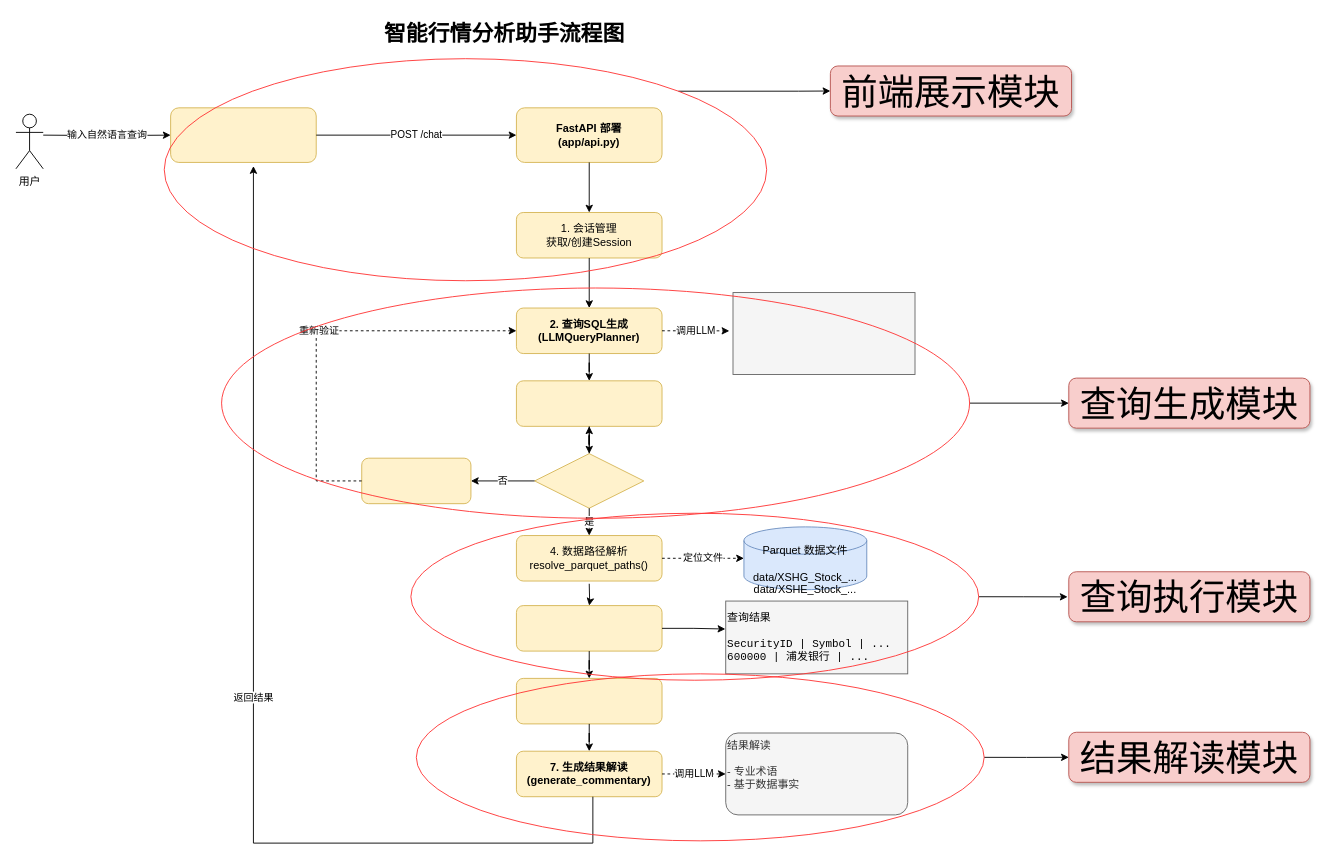
Some shapes in this 1331 by 866 pixel diagram are drawn without their labels. The shapes that lost their labels are listed below. From the top down, each one's centre as x and y in pixels, then its label:
At [243,134]: "Streamlit UI (app/ui_streamlit.py)".
At [823,333]: "DuckDB SQL SELECT ... FROM parquet_scan(...) WHERE ... ORDER BY ... LIMIT ...".
At [589,403]: "3. 计划验证 字段白名单检查".
At [416,480]: "计划修复 (Repair Node)".
At [589,480]: "验证通过?".
At [589,628]: "5. DuckDB执行 duckdb.execute(sql)".
At [589,700]: "6. 结果后处理 列过滤、格式化".
